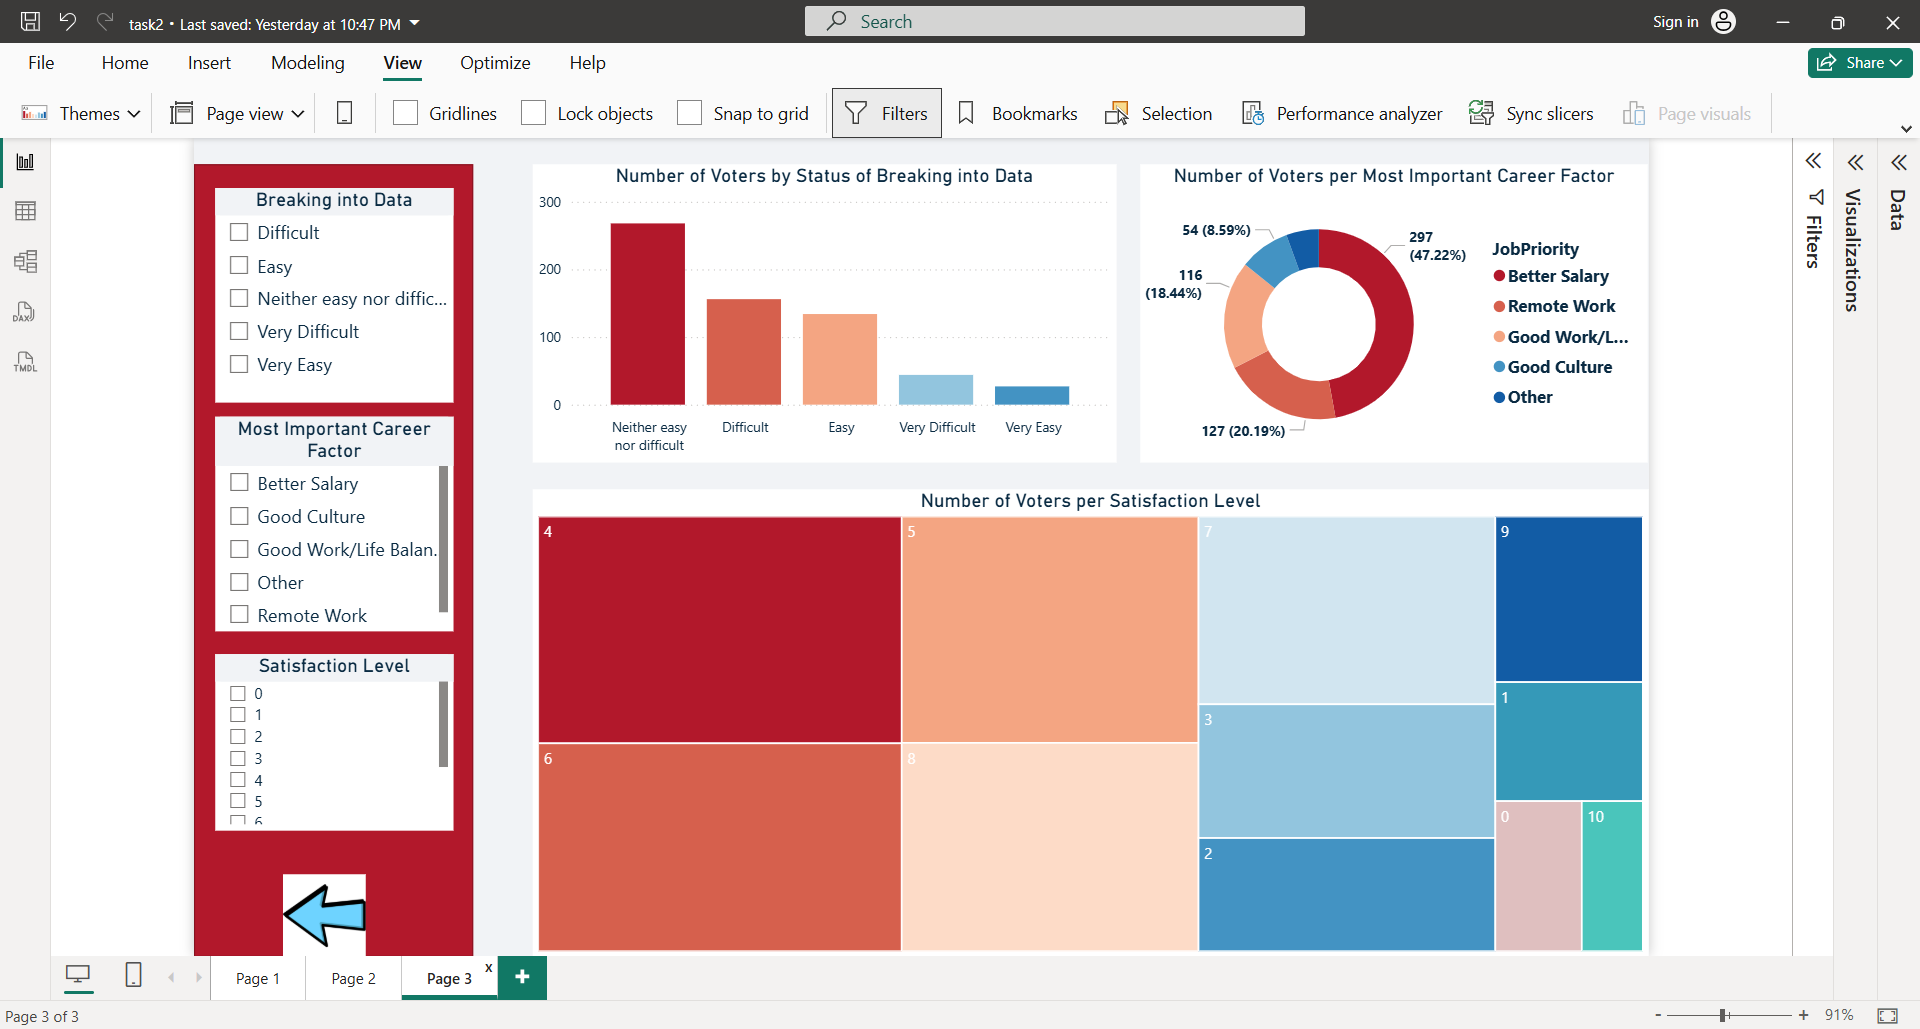

This screenshot's page, from the dashboard's own definition file:
{"tool":"powerbi","page":{"name":"Page 3","canvas":[1280,720],"ordinal":2},"visuals":[{"type":"lineStackedColumnComboChart","title":"Number of Voters by Status of Breaking into Data","fields":{"Category":["Data Professional Survey (2).BreakIntoData"],"Y":["Data Professional Survey (2).No.Voters"]},"box":[297.8,23,513.3,262.7],"z":0},{"type":"treemap","title":"Number of Voters per Satisfaction Level","fields":{"Group":["Data Professional Survey (2).Satisfaction Level"],"Values":["Data Professional Survey (2).No.Voters"]},"box":[297.8,308.7,981.7,411.6],"z":1000},{"type":"donutChart","title":"Number of Voters per Most Important Career Factor","fields":{"Category":["Data Professional Survey (2).JobPriority"],"Y":["Data Professional Survey (2).No.Voters"]},"box":[832.8,23,446.7,262.7],"z":2000},{"type":"slicer","box":[8.5,36.3,219.1,67.8],"z":3000},{"type":"shape","box":[0,23,245.7,697.2],"z":4000},{"type":"slicer","title":"Breaking into Data","fields":{"Values":["Data Professional Survey (2).BreakIntoData"]},"box":[18.2,43.6,209.4,188.8],"z":5000},{"type":"slicer","title":"Most Important Career Factor","fields":{"Values":["Data Professional Survey (2).JobPriority"]},"box":[18.2,245.7,209.4,188.8],"z":6000},{"type":"slicer","title":"Satisfaction Level","fields":{"Values":["Data Professional Survey (2).Satisfaction Level"]},"box":[18.2,453.9,209.4,154.9],"z":7000},{"type":"image","box":[31.5,647.6,165.8,72.6],"z":8000}]}

Visuals, with their boxes on the page's 1280x720 design canvas (x1, y1, x2, y2). These are canvas units, not pixel positions in the 1920x1029 screenshot, which may show the page scaled, cropped or inside an application window:
"Number of Voters by Status of Breaking into Data" lineStackedColumnComboChart: x1=298, y1=23, x2=811, y2=286
"Number of Voters per Satisfaction Level" treemap: x1=298, y1=309, x2=1280, y2=720
"Number of Voters per Most Important Career Factor" donutChart: x1=833, y1=23, x2=1280, y2=286
slicer: x1=8, y1=36, x2=228, y2=104
shape: x1=0, y1=23, x2=246, y2=720
"Breaking into Data" slicer: x1=18, y1=44, x2=228, y2=232
"Most Important Career Factor" slicer: x1=18, y1=246, x2=228, y2=434
"Satisfaction Level" slicer: x1=18, y1=454, x2=228, y2=609
image: x1=32, y1=648, x2=197, y2=720
